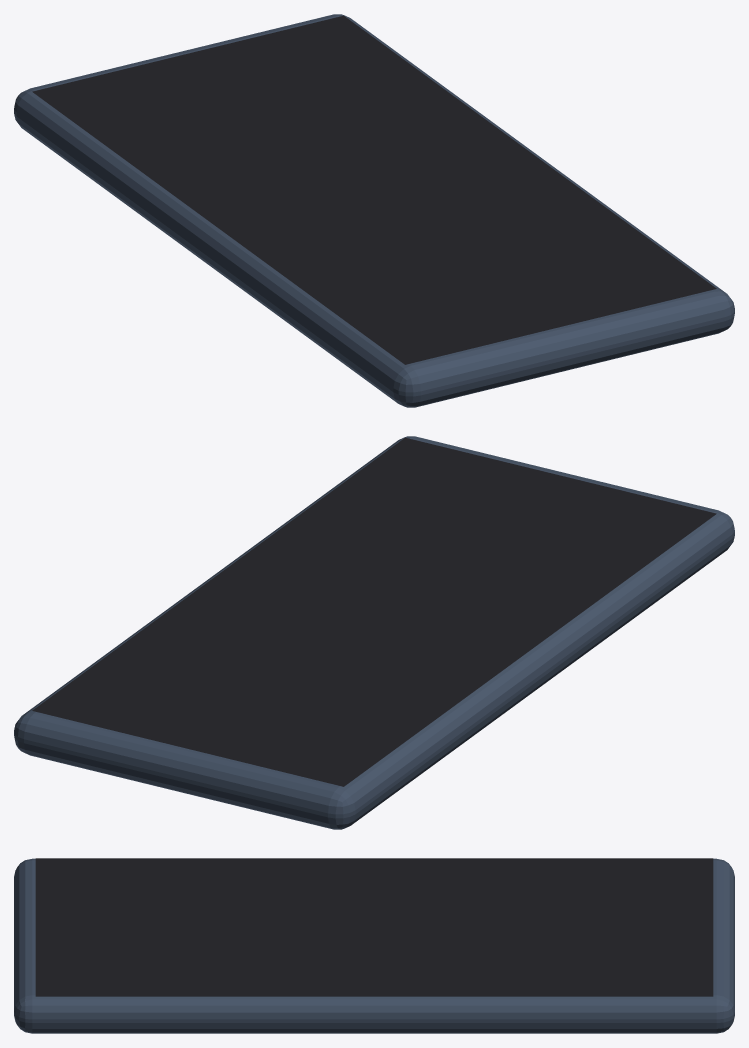
The model's file is Phone_747.glb.
3 renders of one model, top to bottom at view 1: azimuth 30°, elevation 25°; view 2: azimuth 150°, elevation 25°; view 3: azimuth 270°, elevation 25°, orthographic. The views are drawn at different scales.
Parts seen in each view (by area): view 1: Phone_Screen, Phone_Body; view 2: Phone_Screen, Phone_Body; view 3: Phone_Screen, Phone_Body.
Boxes of the visible parts, x1,y1,x2,y2 form: Phone_Screen: [32, 15, 716, 364]; Phone_Body: [14, 14, 734, 407]; Phone_Screen: [32, 437, 716, 786]; Phone_Body: [14, 436, 734, 829]; Phone_Screen: [35, 858, 713, 996]; Phone_Body: [14, 858, 734, 1033].
Bounding box in the file's own units: 0.0736 × 0.0085 × 0.1493.
